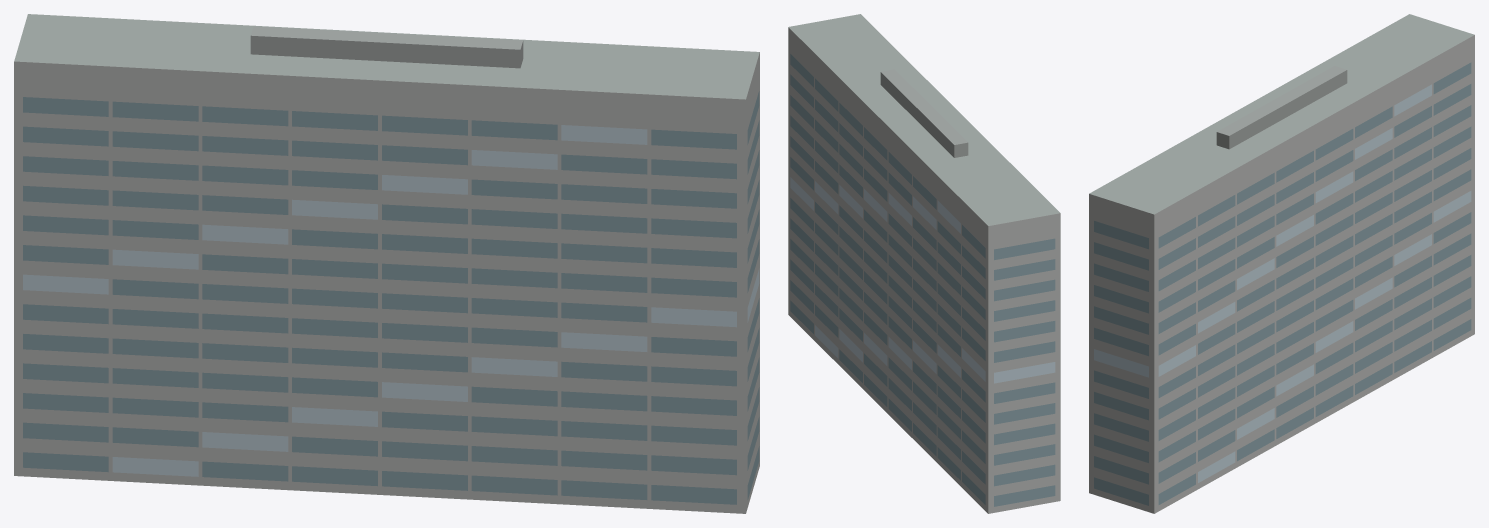
The model's file is fallback-olympic-athletes-village-246.glb.
3 renders of one model, left to right at view 1: azimuth 30°, elevation 25°; view 2: azimuth 150°, elevation 25°; view 3: azimuth 270°, elevation 25°, orthographic. The views are drawn at different scales.
Visible parts, largest first — view 1: fallback-olympic-athletes-village-246; view 2: fallback-olympic-athletes-village-246; view 3: fallback-olympic-athletes-village-246.
Part boxes in pixels (x1,y1,x2,y2): fallback-olympic-athletes-village-246: [14, 14, 759, 513]; fallback-olympic-athletes-village-246: [788, 14, 1060, 513]; fallback-olympic-athletes-village-246: [1089, 14, 1474, 513].
Size of the model in its own units: 61.36 by 44.62 by 49.89.
